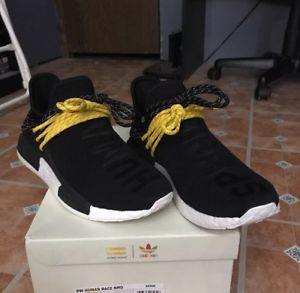adidas Pharrell Human Species: (11, 53, 176, 223), (120, 69, 286, 237)
